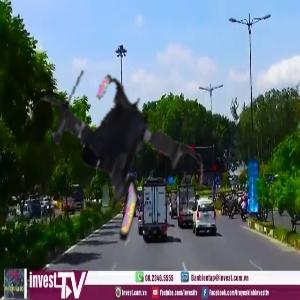drone: (9, 62, 212, 265)
